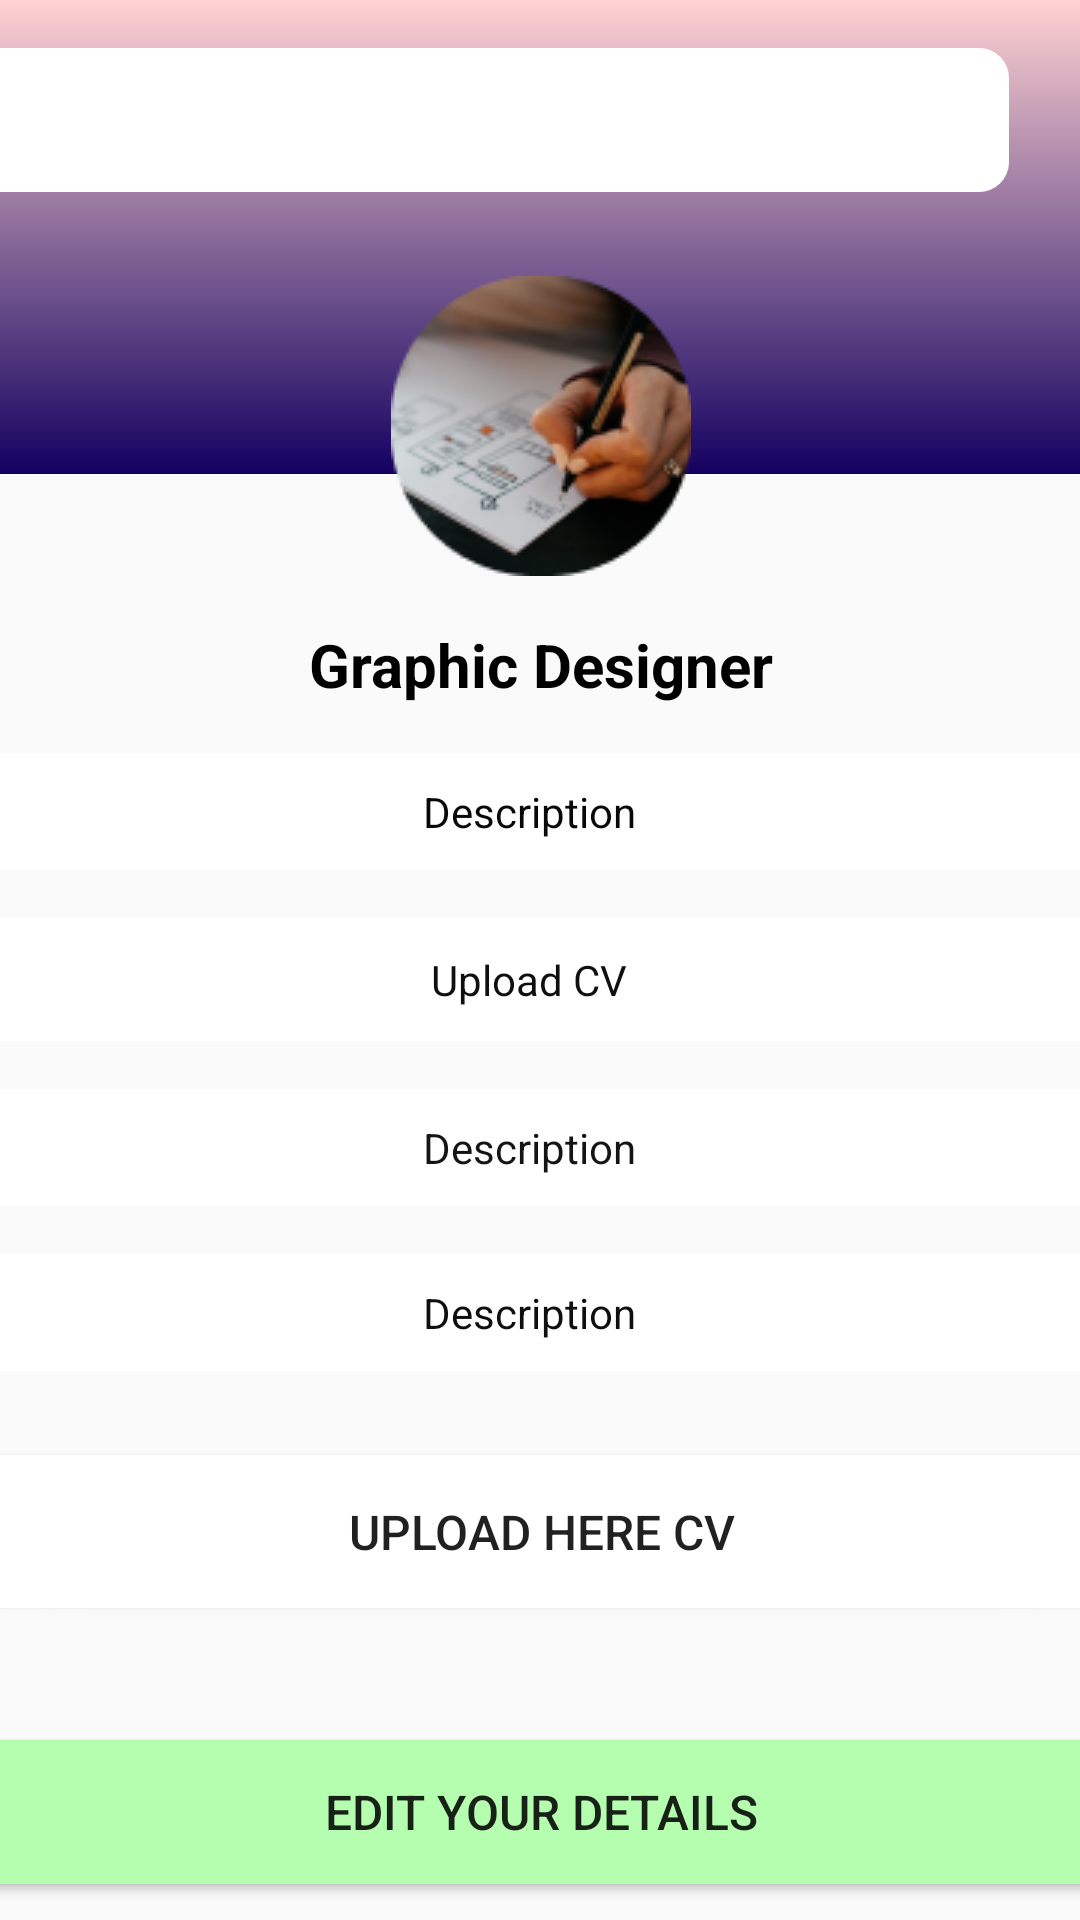

Icon click points for this 1080×1920 phone screenshot, format (x,y):
job: (541,426)
